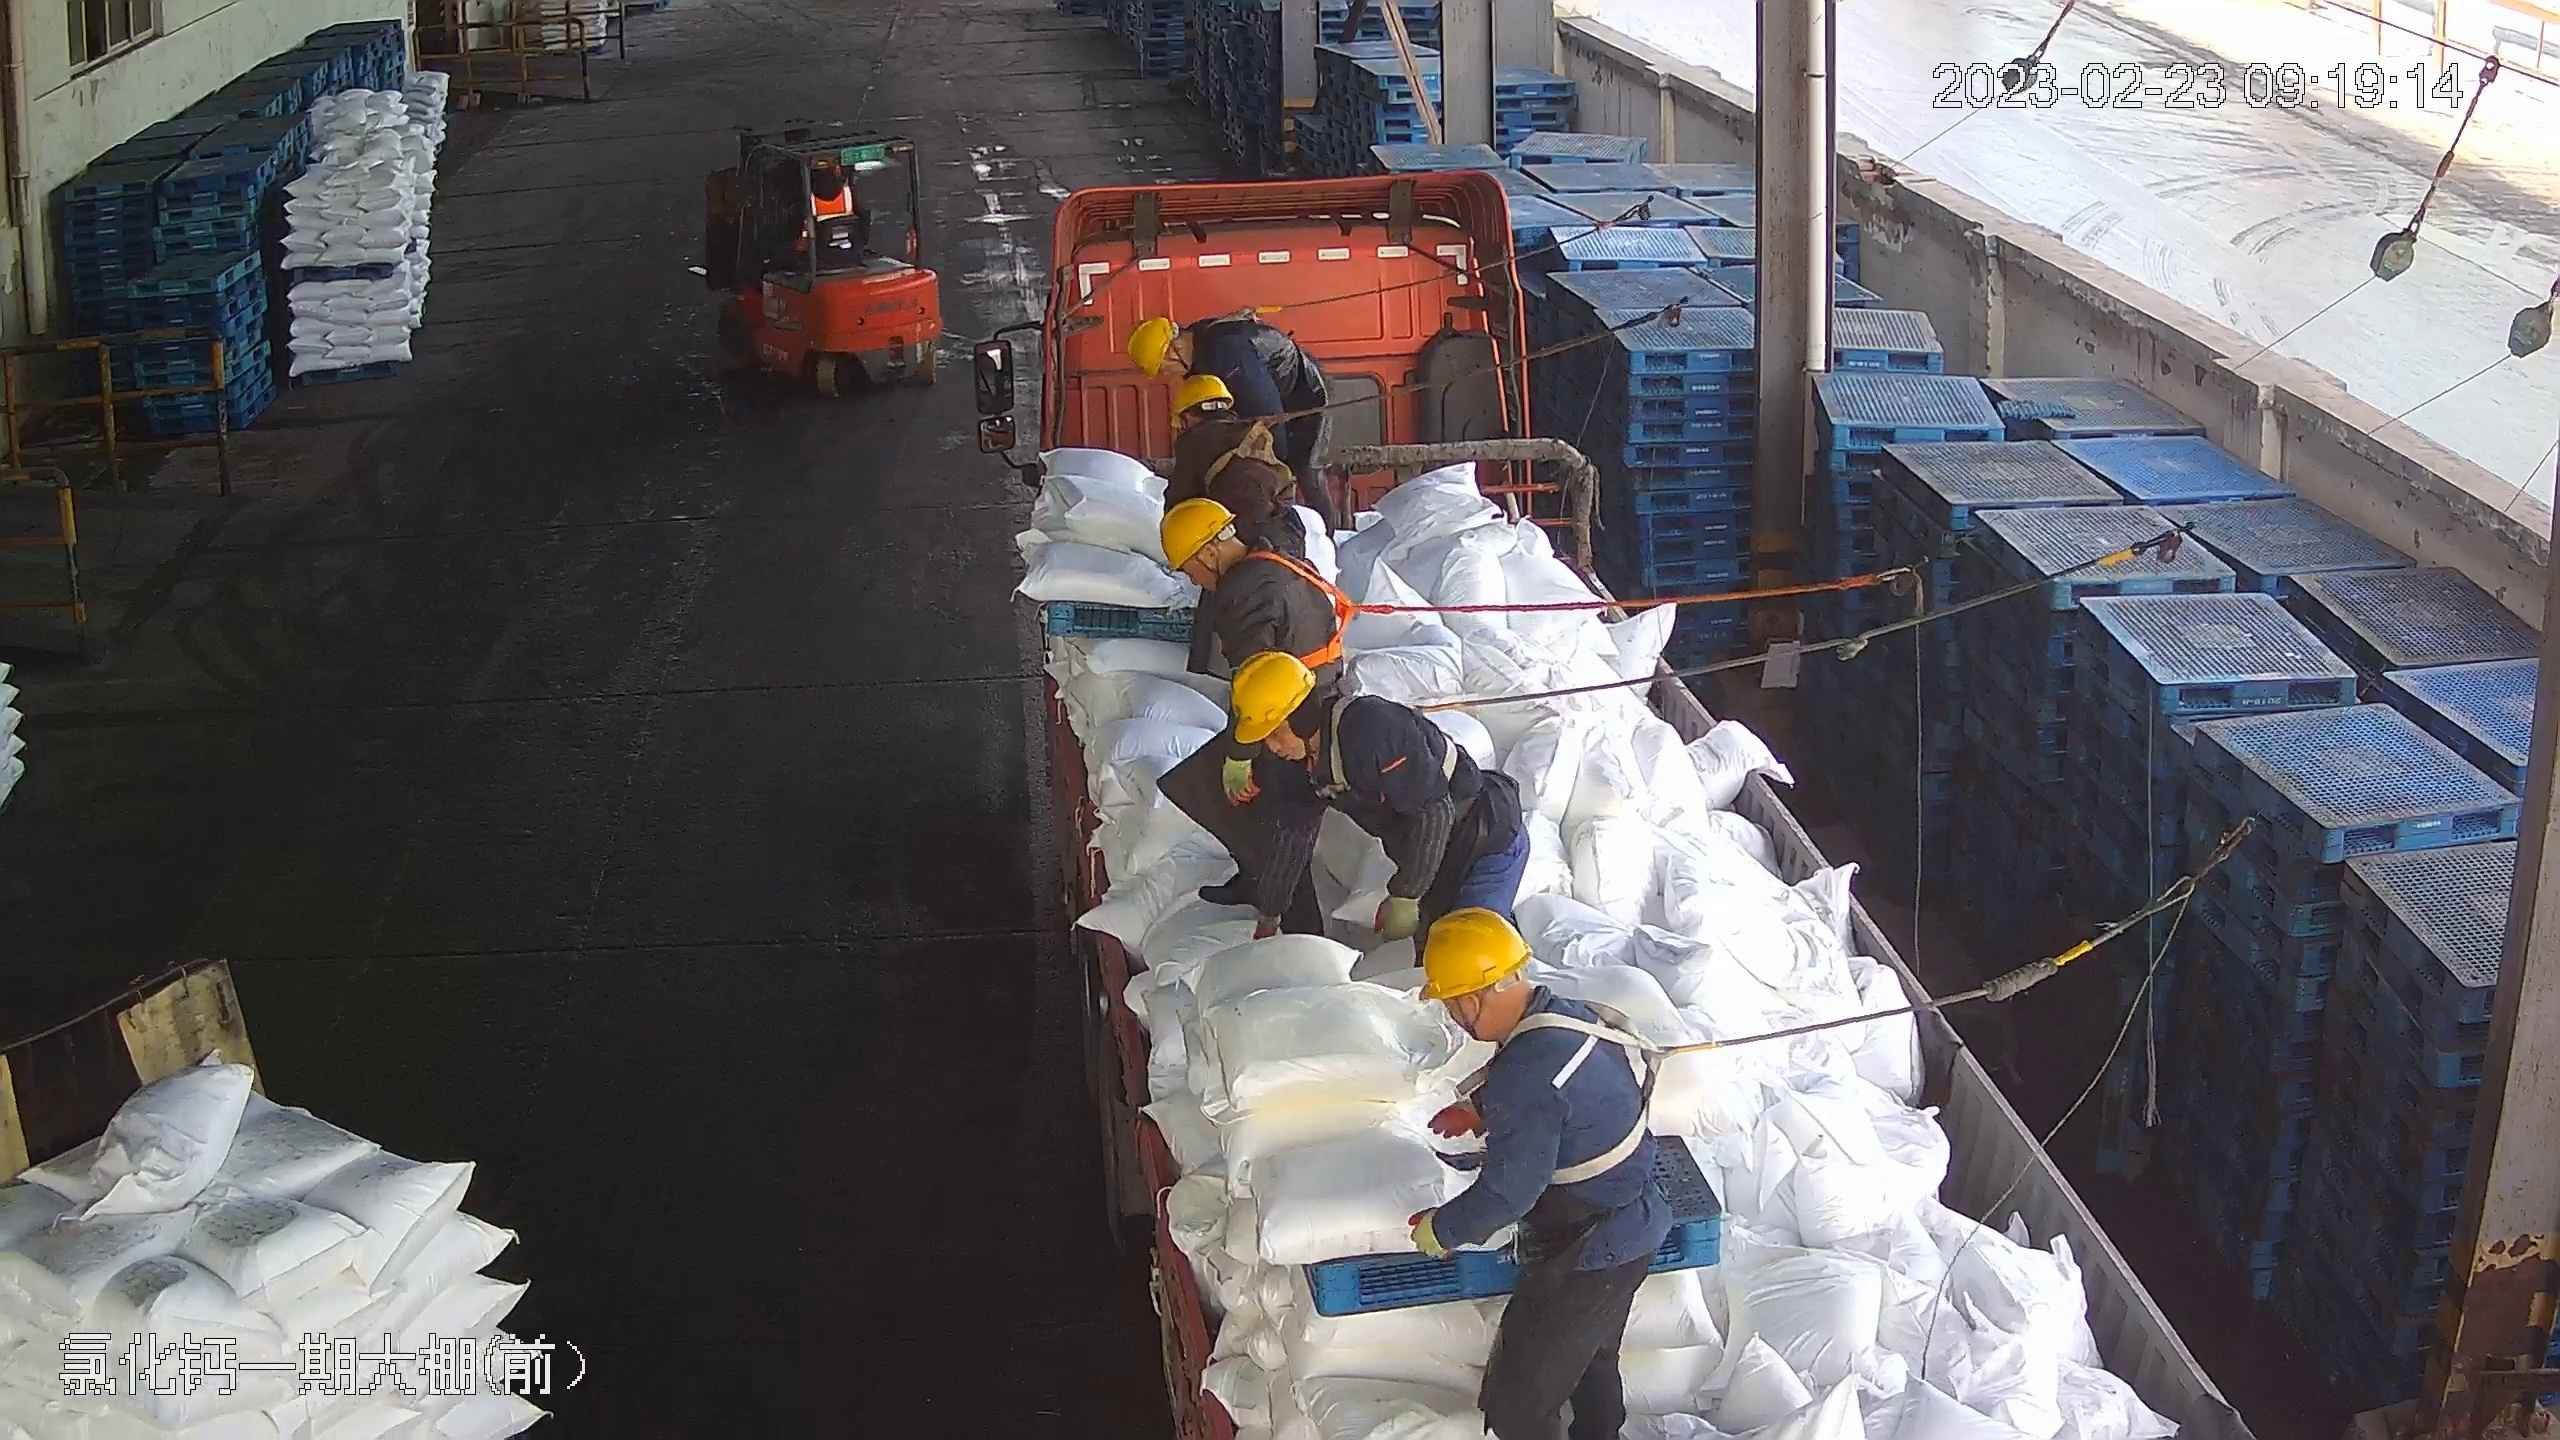belt: (1460, 993, 1722, 1184), (1224, 544, 1399, 674), (1303, 690, 1477, 804), (1210, 407, 1310, 487), (1212, 299, 1300, 342)
head: (1426, 907, 1630, 1133), (1234, 652, 1413, 804), (1160, 495, 1313, 633), (1168, 374, 1277, 466), (1124, 310, 1247, 388)
helmet: (1419, 905, 1535, 1000), (1230, 648, 1311, 740), (1159, 496, 1237, 577), (1125, 315, 1175, 380), (1172, 372, 1229, 419)
people: (1405, 903, 1673, 1439), (1234, 652, 1530, 959), (1158, 498, 1366, 921), (1153, 358, 1336, 558), (1125, 303, 1332, 461)
truck: (987, 160, 2244, 1430)
